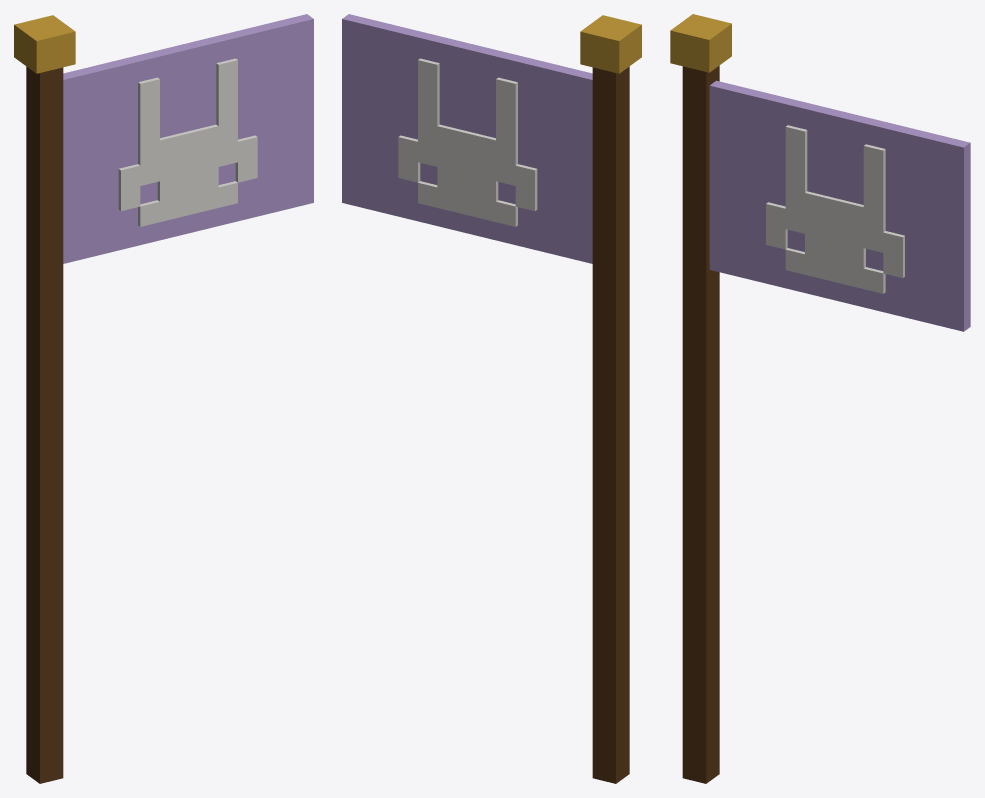
Rendered from ncb-flag-bunny.glb.
3 views of the same model, side by side, from view 1: azimuth 30°, elevation 25°; view 2: azimuth 150°, elevation 25°; view 3: azimuth 330°, elevation 25° (orthographic).
Visible parts, largest first — view 1: box-prop; view 2: box-prop; view 3: box-prop.
Boxes of the visible parts, box(x1,y1,x2,y2) form: box-prop: box(14, 14, 313, 783); box-prop: box(342, 14, 641, 783); box-prop: box(670, 14, 970, 783).
Bounding box in the file's own units: 1.46 × 3.66 × 0.2.
